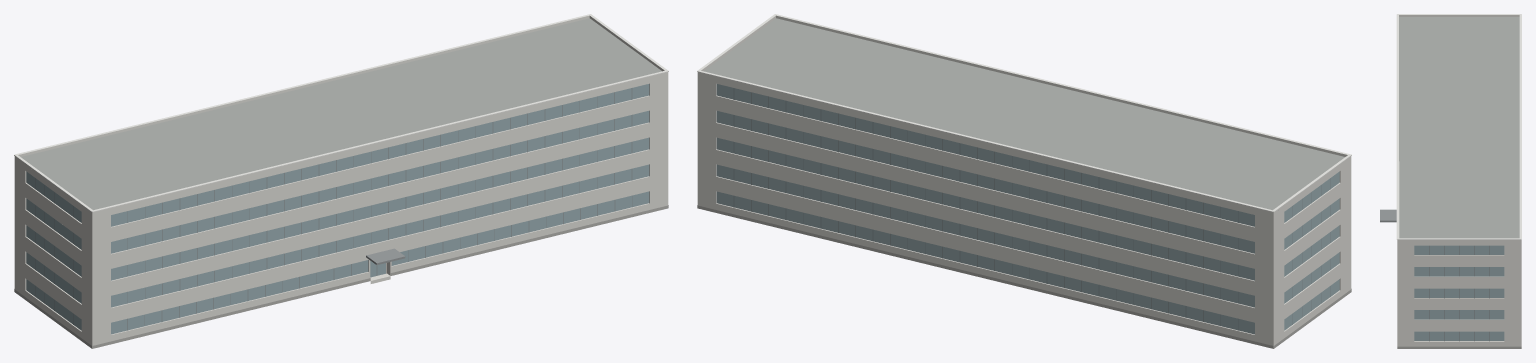
The picture shows the model from 3 angles, left to right: view 1: azimuth 30°, elevation 25°; view 2: azimuth 150°, elevation 25°; view 3: azimuth 270°, elevation 25°; orthographic projection. The views are drawn at different scales.
Visible parts, largest first — view 1: b115951750__wall, b115951750__roof, b115951750__glass, b115951750__parapet, b115951750__trim, b115951750__frame, b115951750__base; view 2: b115951750__wall, b115951750__roof, b115951750__glass, b115951750__parapet, b115951750__trim, b115951750__frame, b115951750__base; view 3: b115951750__roof, b115951750__wall, b115951750__glass, b115951750__trim, b115951750__parapet, b115951750__base, b115951750__frame, b115951750__canopy.
Boxes of the visible parts, left/top/right/bottom form: b115951750__wall: left=14, top=74, right=668, bottom=348; b115951750__roof: left=21, top=18, right=661, bottom=348; b115951750__glass: left=26, top=84, right=649, bottom=334; b115951750__parapet: left=14, top=15, right=668, bottom=214; b115951750__trim: left=14, top=14, right=668, bottom=212; b115951750__frame: left=35, top=88, right=632, bottom=330; b115951750__base: left=14, top=205, right=668, bottom=348; b115951750__wall: left=697, top=74, right=1351, bottom=348; b115951750__roof: left=704, top=18, right=1344, bottom=210; b115951750__glass: left=716, top=84, right=1339, bottom=334; b115951750__parapet: left=697, top=15, right=1351, bottom=213; b115951750__trim: left=697, top=14, right=1351, bottom=212; b115951750__frame: left=733, top=88, right=1330, bottom=330; b115951750__base: left=697, top=205, right=1351, bottom=348; b115951750__roof: left=1399, top=17, right=1519, bottom=238; b115951750__wall: left=1397, top=241, right=1521, bottom=346; b115951750__glass: left=1414, top=245, right=1504, bottom=340; b115951750__trim: left=1396, top=14, right=1521, bottom=239; b115951750__parapet: left=1397, top=15, right=1521, bottom=241; b115951750__base: left=1397, top=346, right=1521, bottom=348; b115951750__frame: left=1429, top=245, right=1489, bottom=341; b115951750__canopy: left=1380, top=209, right=1396, bottom=222.
Bounding box in the file's own units: 80.78 × 18.75 × 21.51.
